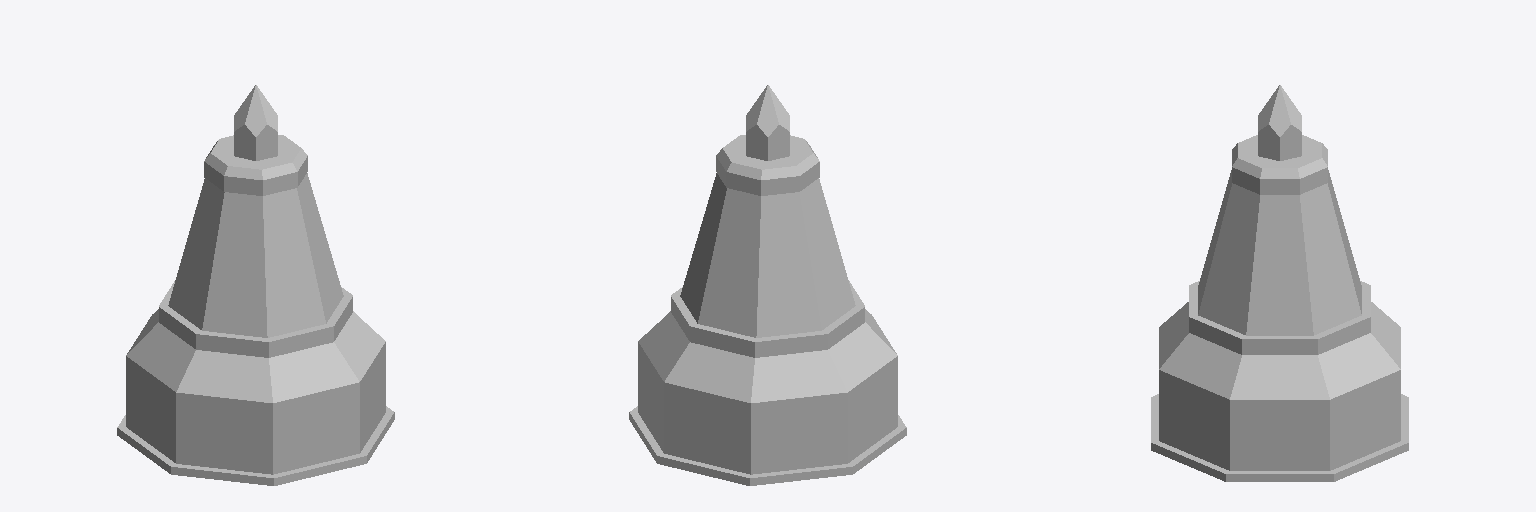
The model's file is echoing_conformance_chamber.obj.
3 views of the same model, side by side, from view 1: azimuth 30°, elevation 25°; view 2: azimuth 150°, elevation 25°; view 3: azimuth 270°, elevation 25° (orthographic).
Parts seen in each view (by area): view 1: DeviceBase_Cylinder, GlassCage_Cylinder.003, DeviceCap_Cylinder.001, CrystalUpper_Cylinder.004; view 2: DeviceBase_Cylinder, GlassCage_Cylinder.003, DeviceCap_Cylinder.001, CrystalUpper_Cylinder.004; view 3: DeviceBase_Cylinder, GlassCage_Cylinder.003, DeviceCap_Cylinder.001, CrystalUpper_Cylinder.004.
Part boxes in pixels (left/top/right/bottom): DeviceBase_Cylinder: left=117, top=281, right=394, bottom=485; GlassCage_Cylinder.003: left=168, top=173, right=343, bottom=337; DeviceCap_Cylinder.001: left=204, top=135, right=307, bottom=195; CrystalUpper_Cylinder.004: left=234, top=85, right=277, bottom=160; DeviceBase_Cylinder: left=629, top=281, right=906, bottom=485; GlassCage_Cylinder.003: left=680, top=173, right=855, bottom=337; DeviceCap_Cylinder.001: left=716, top=135, right=819, bottom=195; CrystalUpper_Cylinder.004: left=746, top=85, right=789, bottom=160; DeviceBase_Cylinder: left=1151, top=281, right=1408, bottom=481; GlassCage_Cylinder.003: left=1198, top=170, right=1361, bottom=335; DeviceCap_Cylinder.001: left=1232, top=135, right=1327, bottom=194; CrystalUpper_Cylinder.004: left=1258, top=85, right=1301, bottom=160.
Bounding box in the file's own units: 1.85 × 2.71 × 1.85.